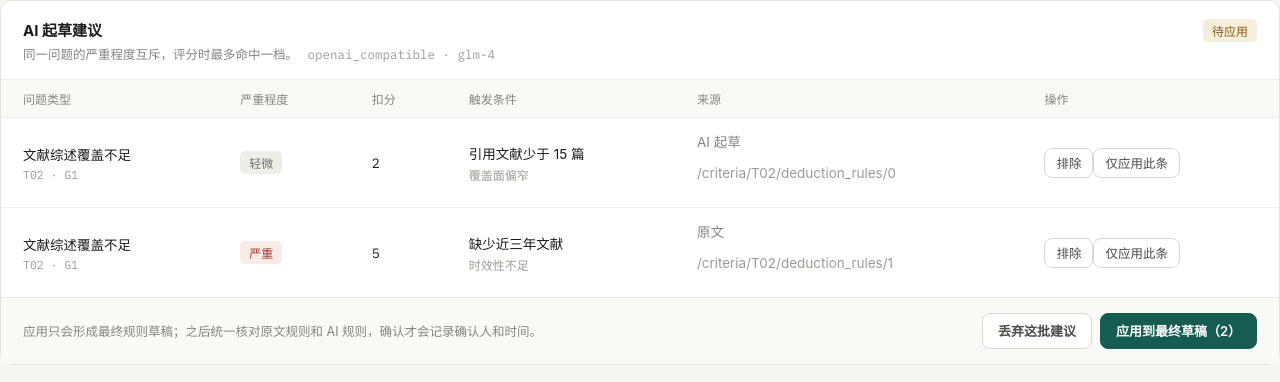
Test case: AI 起草选择面板 › 排除一行后它显示为已排除，且不再计入待应用条数
Expected: the button with test id "apply" shows "2", [1100, 313, 1257, 349]
Click the button with test id "exclude" in the row of "轻微". click: (1069, 163)
box: [1044, 148, 1093, 178]
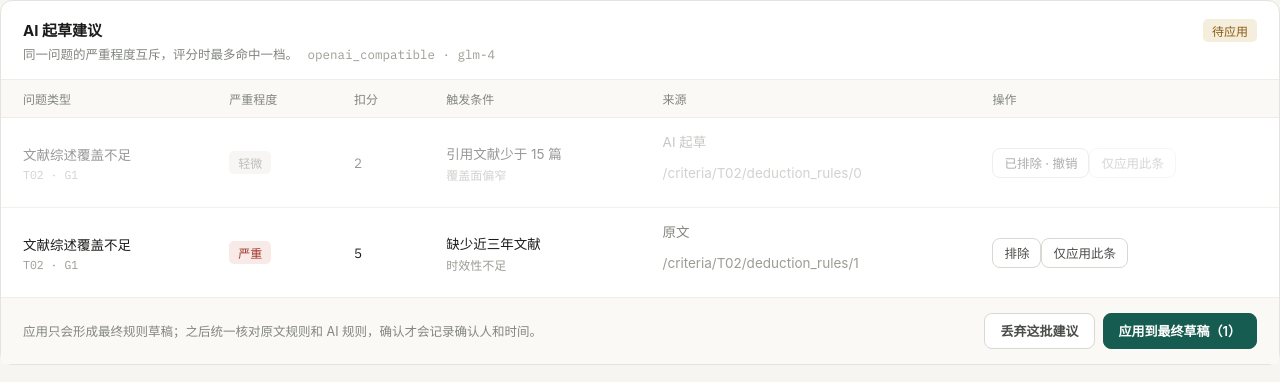
Result: the button with test id "apply" shows "1" at [1102, 313, 1257, 349]
Result: the 2nd row shows "已排除" at [992, 148, 1089, 178]
